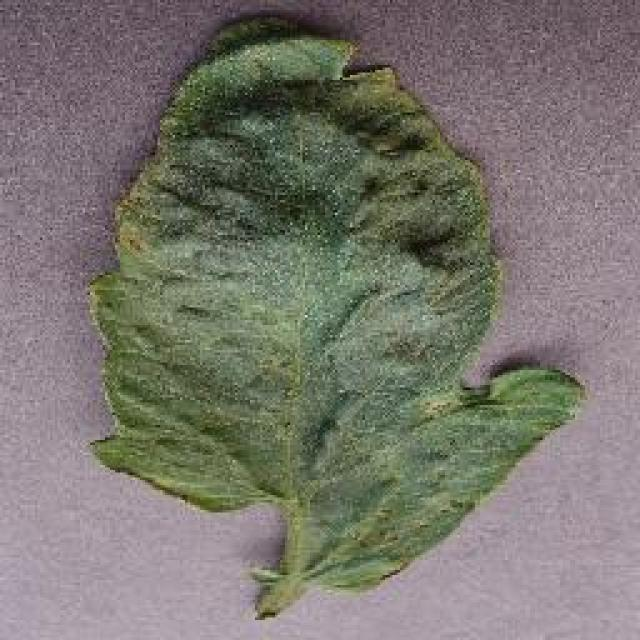Tomato___Target_Spot: (90, 20, 578, 618)
